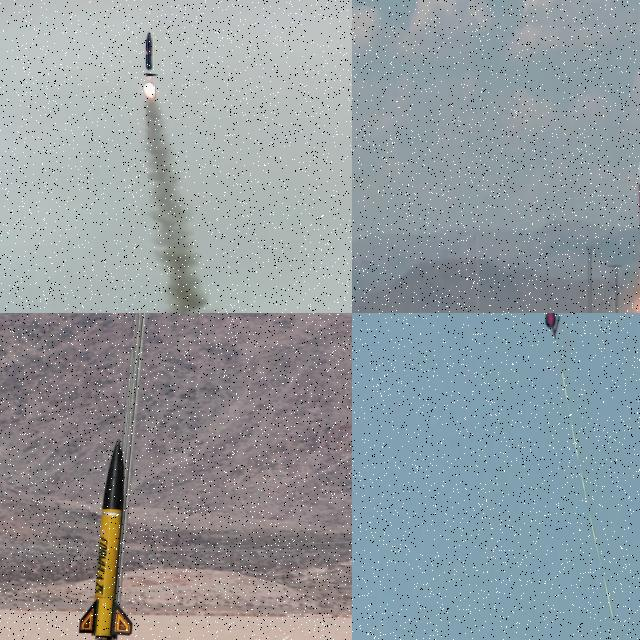Rocket: (76, 436, 134, 640), (144, 31, 159, 78), (637, 162, 640, 303)
